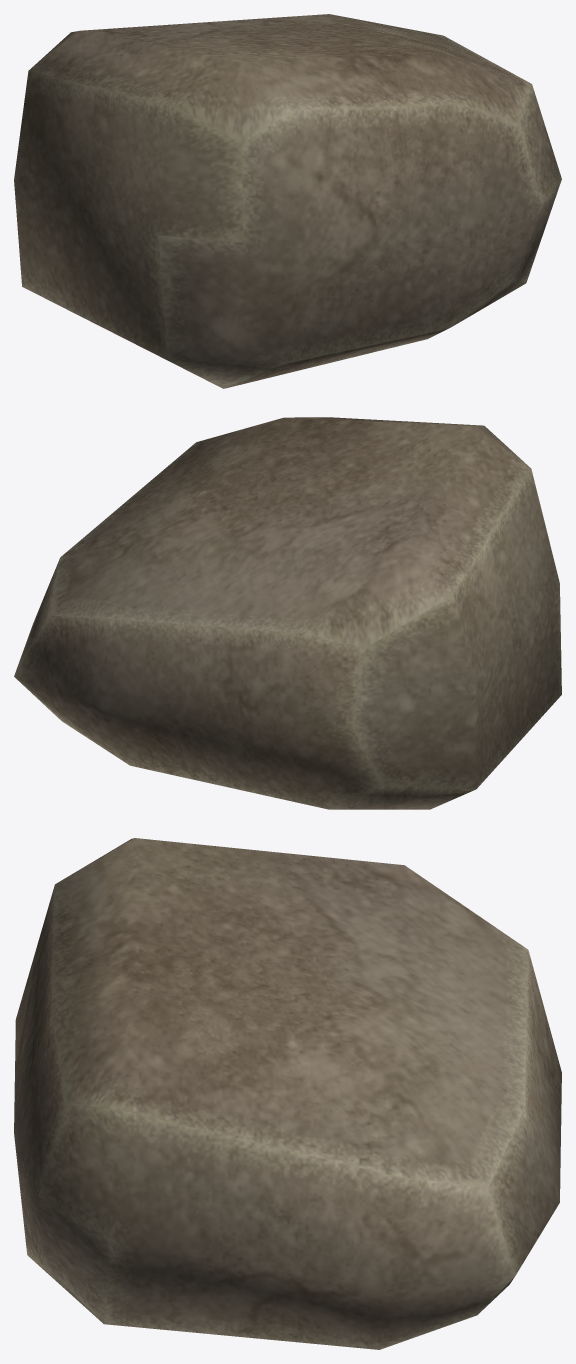
File: Rock_10.fbx
The picture shows the model from 3 angles, top to bottom: view 1: azimuth 30°, elevation 25°; view 2: azimuth 150°, elevation 25°; view 3: azimuth 270°, elevation 25°; orthographic projection. The views are drawn at different scales.
Parts seen in each view (by area): view 1: Rock_10; view 2: Rock_10; view 3: Rock_10.
Part boxes in pixels (<box>): Rock_10: <box>14,14,561,388</box>; Rock_10: <box>14,417,561,809</box>; Rock_10: <box>14,838,561,1349</box>.
Size of the model in its own units: 2.06 by 1.31 by 1.8.
Materials: 1 (1 with a texture image).
